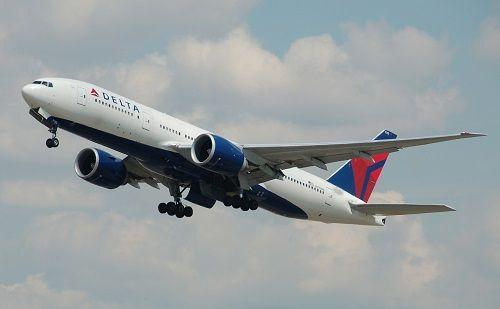airplane: (18, 73, 489, 232)
